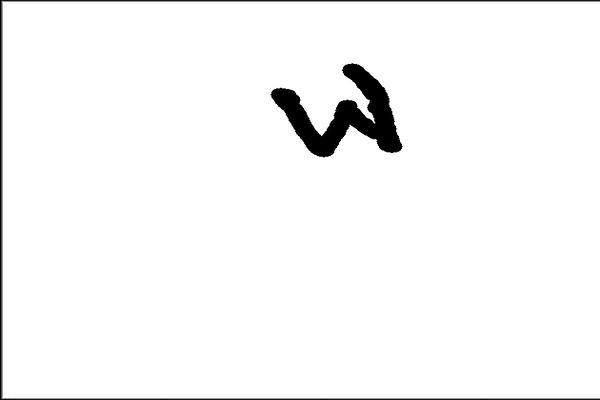w: (252, 50, 408, 169)
